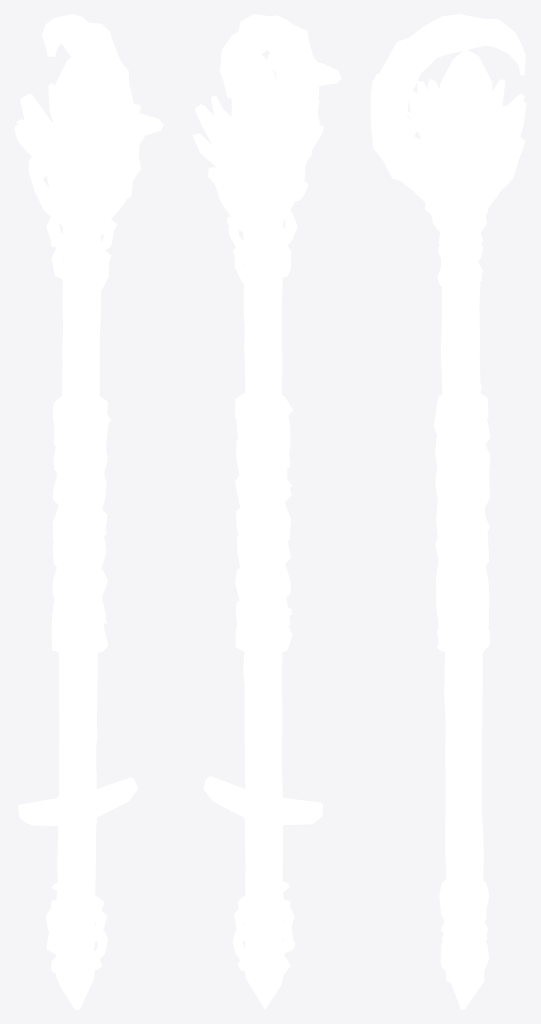
File: staff_frost.glb
3 views of the same model, side by side, from view 1: azimuth 30°, elevation 25°; view 2: azimuth 150°, elevation 25°; view 3: azimuth 270°, elevation 25° (orthographic).
Parts seen in each view (by area): view 1: staff_frost; view 2: staff_frost; view 3: staff_frost.
Boxes of the visible parts, <box> form: staff_frost: <box>14,14,163,1009</box>; staff_frost: <box>192,14,341,1009</box>; staff_frost: <box>370,14,526,1009</box>.
Size of the model in its own units: 0.2123 by 1.7 by 0.2424.
Materials: 1 (1 with a texture image).
